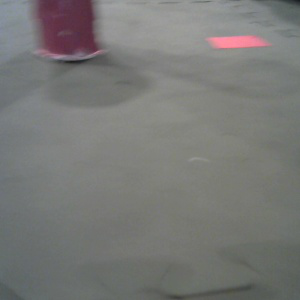middle: (28, 1, 110, 63)
